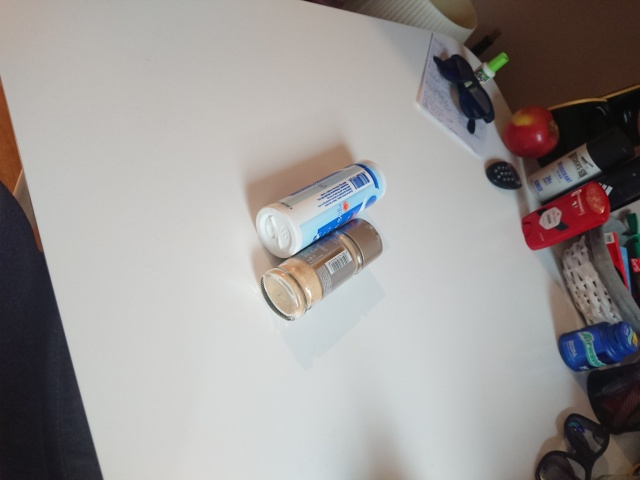Kotanyi Garlic Granules 70g: (258, 215, 385, 323)
Solana Pag Fine Sea Salt 250g: (253, 156, 389, 261)
